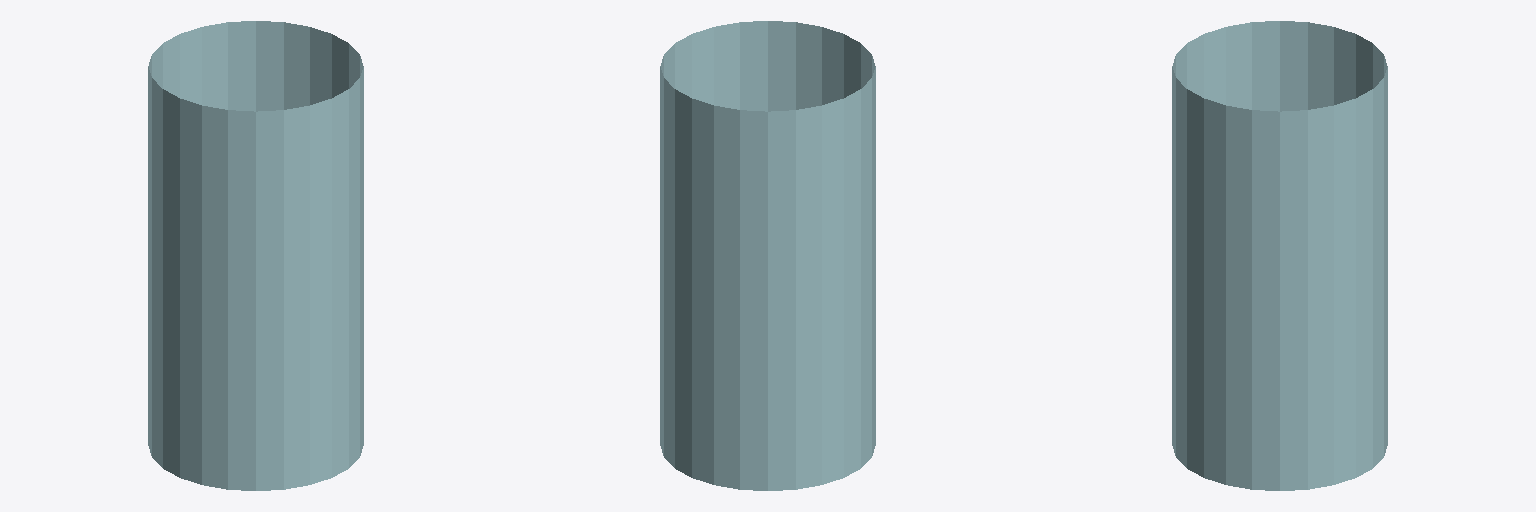
Rendered from original-43.obj.
3 renders of one model, left to right at view 1: azimuth 30°, elevation 25°; view 2: azimuth 150°, elevation 25°; view 3: azimuth 270°, elevation 25°, orthographic.
Parts seen in each view (by area): view 1: #ID1039; view 2: #ID1039; view 3: #ID1039.
Boxes of the visible parts, x1,y1,x2,y2 form: #ID1039: [148, 21, 363, 490]; #ID1039: [660, 21, 875, 490]; #ID1039: [1172, 21, 1387, 490].
Bounding box in the file's own units: 0.0099 × 0.0193 × 0.0099.